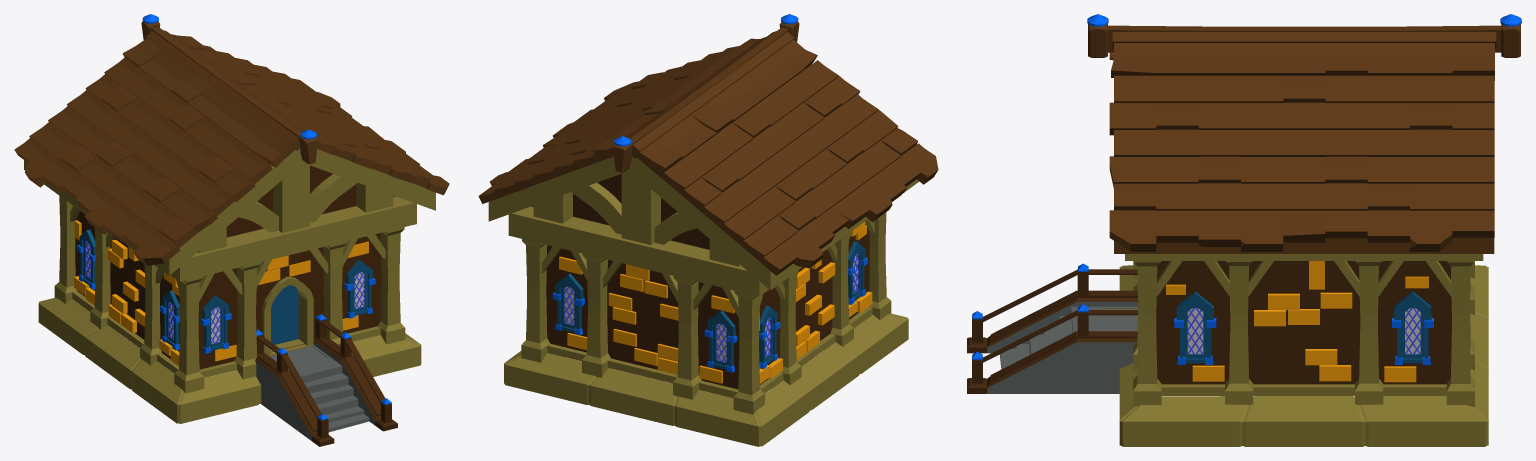
Rendered from SM_Hous_14_A.gltf.
The picture shows the model from 3 angles, left to right: view 1: azimuth 30°, elevation 25°; view 2: azimuth 150°, elevation 25°; view 3: azimuth 270°, elevation 25°; orthographic projection. The views are drawn at different scales.
Parts seen in each view (by area): view 1: SM_Hous_14_A; view 2: SM_Hous_14_A; view 3: SM_Hous_14_A.
Boxes of the visible parts, box(x1,y1,x2,y2) form: SM_Hous_14_A: box(14, 14, 449, 446); SM_Hous_14_A: box(478, 14, 938, 446); SM_Hous_14_A: box(967, 14, 1521, 446).
Bounding box in the file's own units: 11.03 × 9.31 × 13.18.
